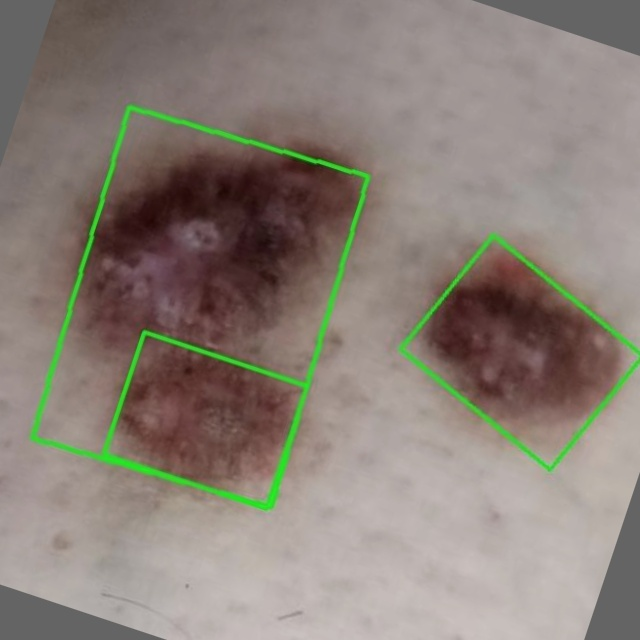Eczema: (31, 105, 367, 506), (400, 234, 639, 469), (103, 332, 307, 508)
